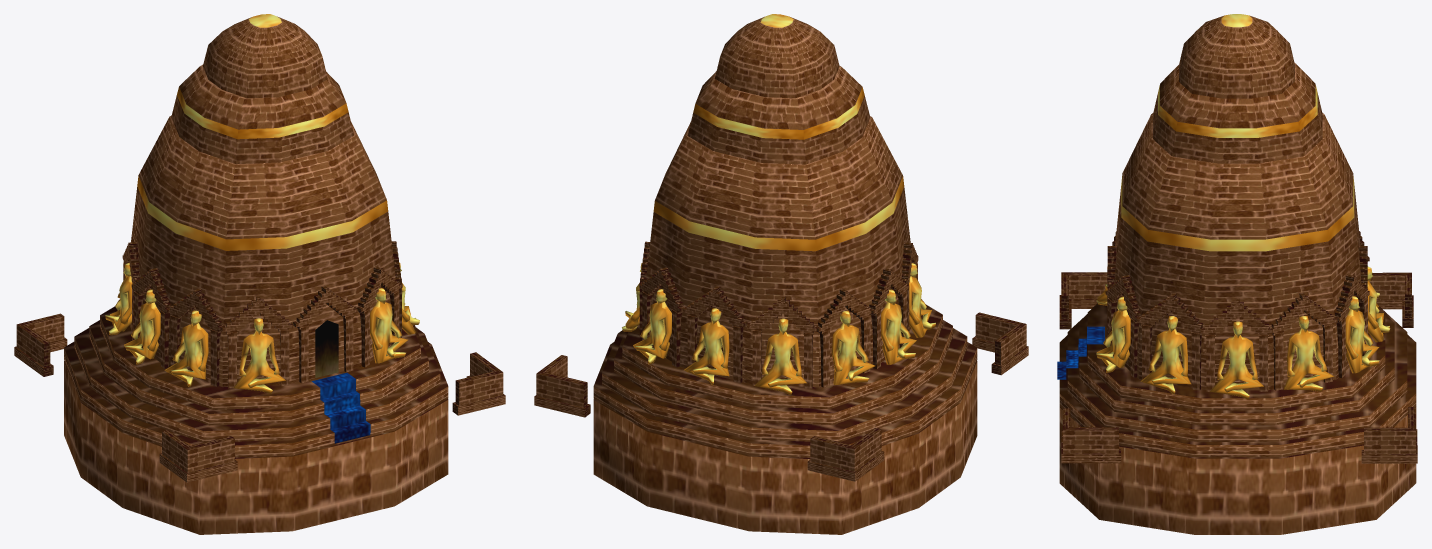
Rendered from wonder.dae.
3 views of the same model, side by side, from view 1: azimuth 30°, elevation 25°; view 2: azimuth 150°, elevation 25°; view 3: azimuth 270°, elevation 25° (orthographic). The views are drawn at different scales.
Visible parts, largest first — view 1: wonder; view 2: wonder; view 3: wonder.
Boxes of the visible parts, box(x1,y1,x2,y2) form: wonder: box(14, 14, 505, 534); wonder: box(534, 14, 1028, 534); wonder: box(1057, 14, 1417, 534).
Size of the model in its own units: 43.66 by 41.63 by 56.31.
